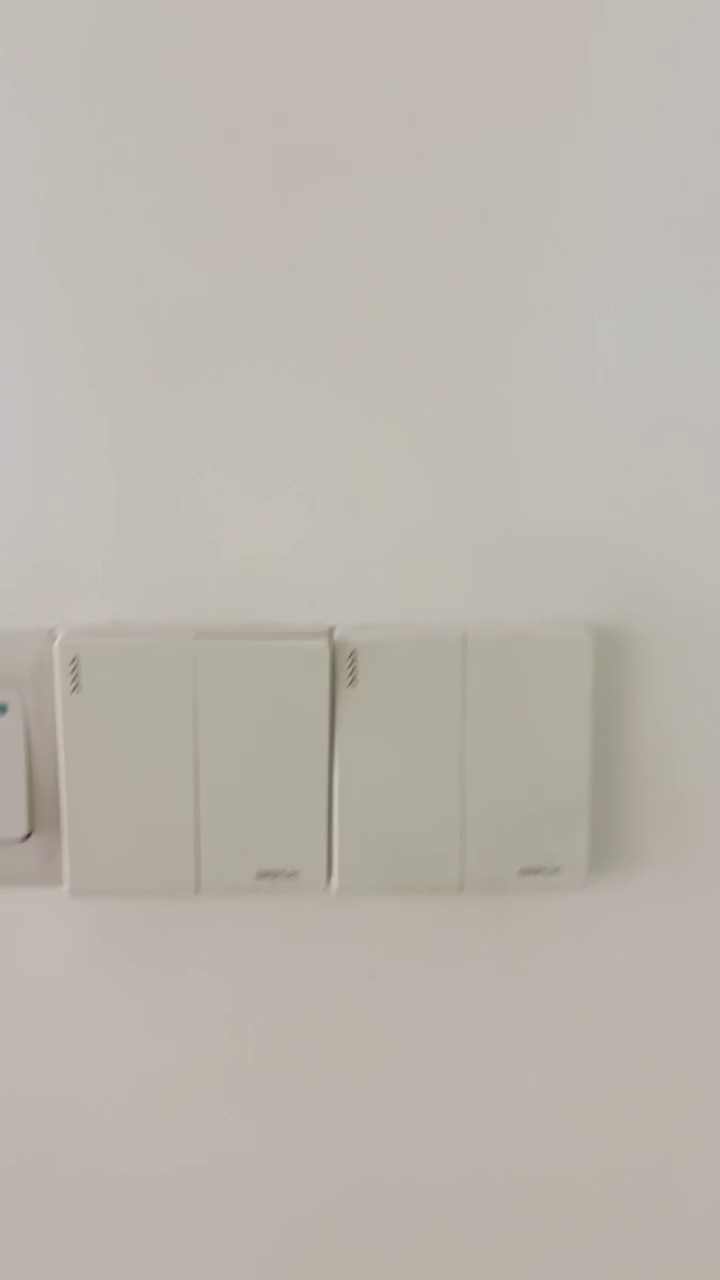button1: (59, 639, 193, 888), (196, 640, 327, 889), (465, 644, 592, 891), (341, 640, 461, 891)
